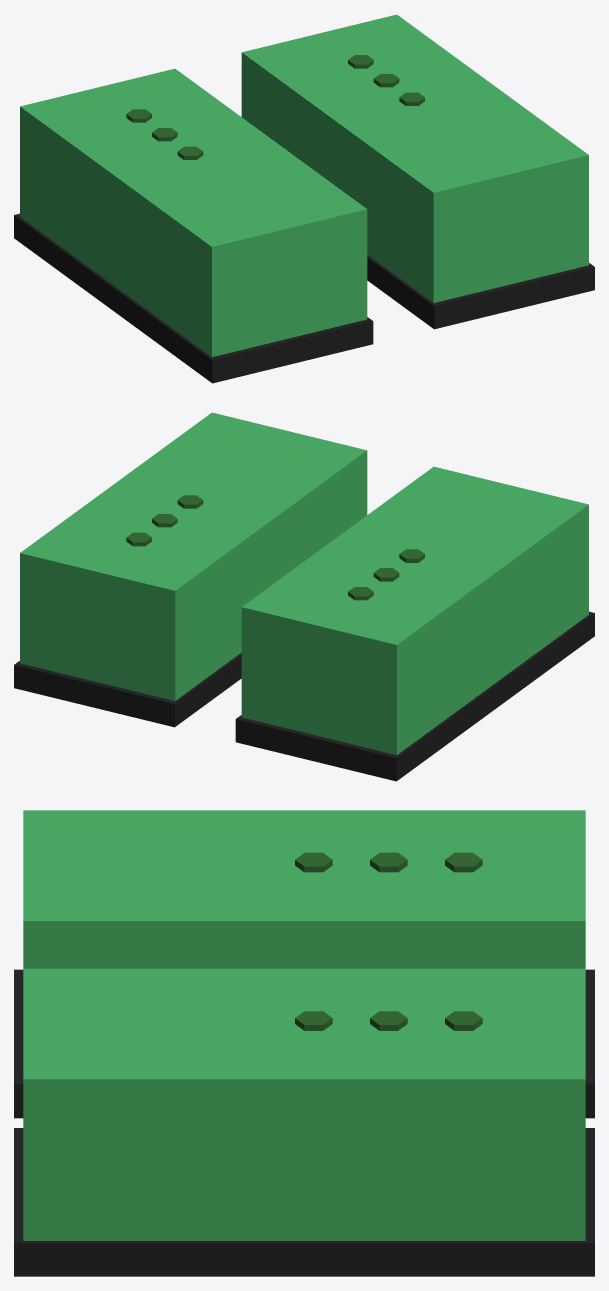
Rendered from cosmetic_shoes_clogs.glb.
3 views of the same model, one above another, from view 1: azimuth 30°, elevation 25°; view 2: azimuth 150°, elevation 25°; view 3: azimuth 270°, elevation 25° (orthographic). The views are drawn at different scales.
Parts seen in each view (by area): view 1: cosmetic_shoes_clogs; view 2: cosmetic_shoes_clogs; view 3: cosmetic_shoes_clogs.
Part boxes in pixels (<box>): cosmetic_shoes_clogs: <box>14,14,594,383</box>; cosmetic_shoes_clogs: <box>14,412,594,781</box>; cosmetic_shoes_clogs: <box>14,810,594,1276</box>.
Bounding box in the file's own units: 0.345 × 0.1185 × 0.31.
1 material, 1 textured.
